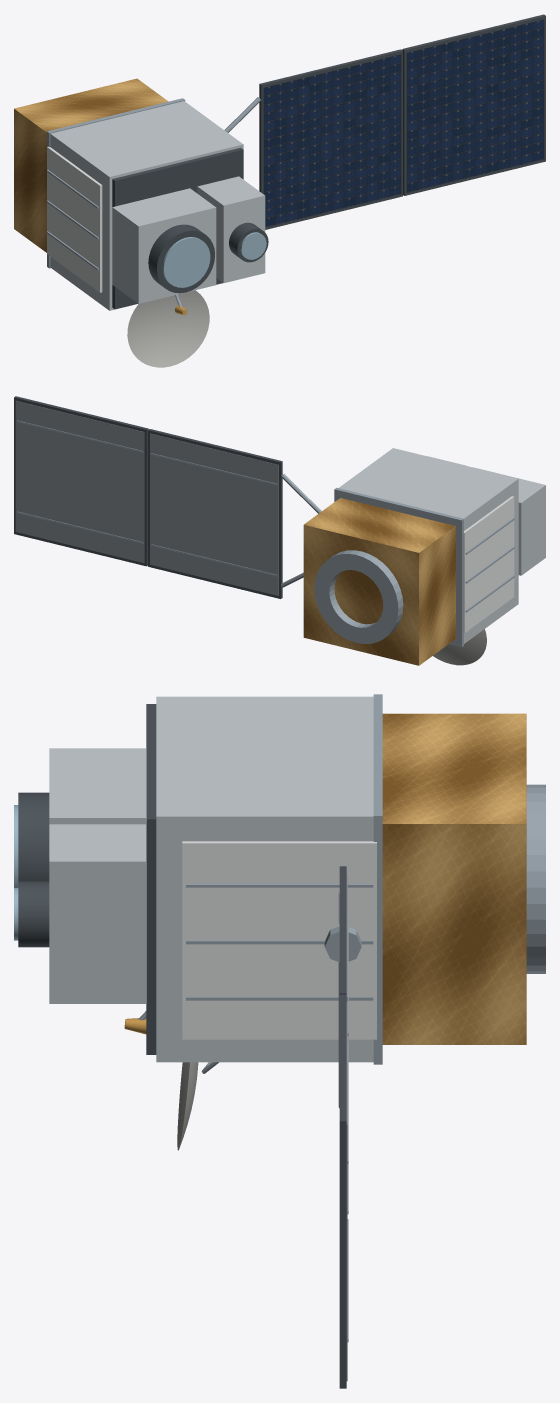
Rendered from himawari-8-9.glb.
3 views of the same model, one above another, from view 1: azimuth 30°, elevation 25°; view 2: azimuth 150°, elevation 25°; view 3: azimuth 270°, elevation 25° (orthographic). The views are drawn at different scales.
Visible parts, largest first — view 1: Solar cell panel (×2), Payload module, Imager bench (×2), Service module, Radiator face, Communications reflector, Solar panel frame (×2), Earth-facing deck, Optical aperture (×2), Optical baffle (×2), Module interface; view 2: Rear array substrate (×2), Service module, Payload module, Radiator face, Launch adapter ring, Solar panel frame (×2), Imager bench, Module interface, Communications reflector; view 3: Service module, Payload module, Radiator face, Imager bench (×2), Optical baffle (×2), Solar panel frame (×2), Earth-facing deck, Launch adapter ring, Module interface, Radiator seam (×2), Communications reflector.
Part boxes in pixels (x1=…): Solar cell panel (×2): x1=263, y1=19, x2=544, y2=227; Payload module: x1=50, y1=101, x2=243, y2=310; Imager bench (×2): x1=112, y1=176, x2=265, y2=303; Service module: x1=14, y1=78, x2=168, y2=252; Radiator face: x1=47, y1=146, x2=102, y2=292; Communications reflector: x1=127, y1=290, x2=209, y2=367; Solar panel frame (×2): x1=259, y1=14, x2=545, y2=229; Earth-facing deck: x1=112, y1=147, x2=243, y2=309; Optical aperture (×2): x1=162, y1=232, x2=266, y2=287; Optical baffle (×2): x1=148, y1=222, x2=268, y2=293; Module interface: x1=47, y1=98, x2=185, y2=268; Rear array substrate (×2): x1=15, y1=400, x2=278, y2=595; Service module: x1=303, y1=498, x2=455, y2=665; Payload module: x1=339, y1=448, x2=518, y2=643; Radiator face: x1=463, y1=496, x2=514, y2=633; Launch adapter ring: x1=314, y1=550, x2=403, y2=643; Solar panel frame (×2): x1=14, y1=396, x2=282, y2=598; Imager bench: x1=473, y1=467, x2=545, y2=575; Module interface: x1=334, y1=487, x2=463, y2=647; Communications reflector: x1=433, y1=629, x2=486, y2=665; Service module: x1=382, y1=713, x2=526, y2=1044; Payload module: x1=156, y1=696, x2=373, y2=1062; Radiator face: x1=182, y1=841, x2=376, y2=1039; Imager bench (×2): x1=49, y1=748, x2=145, y2=1003; Optical baffle (×2): x1=18, y1=792, x2=49, y2=947; Solar panel frame (×2): x1=339, y1=866, x2=346, y2=1388; Earth-facing deck: x1=146, y1=704, x2=156, y2=1054; Launch adapter ring: x1=526, y1=784, x2=545, y2=973; Module interface: x1=373, y1=694, x2=382, y2=1064; Radiator seam (×2): x1=186, y1=883, x2=373, y2=1000; Communications reflector: x1=177, y1=1062, x2=198, y2=1150.
Bounding box in the file's own units: 8.05 × 3.39 × 4.12.
Materials: 10 (2 with a texture image).
